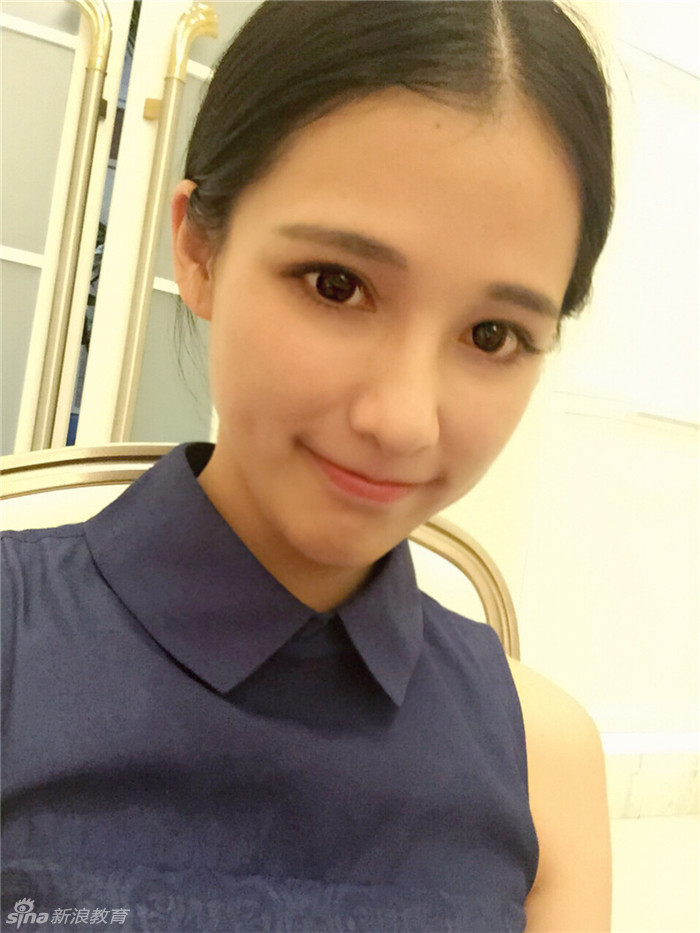unmask: (211, 105, 604, 562)
